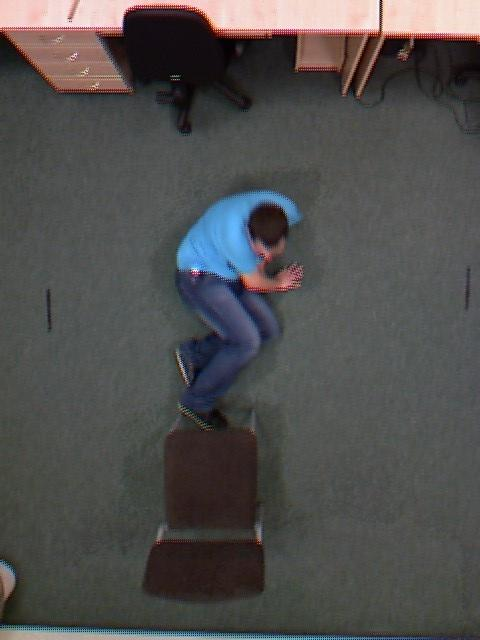fall: (136, 211, 331, 405)
